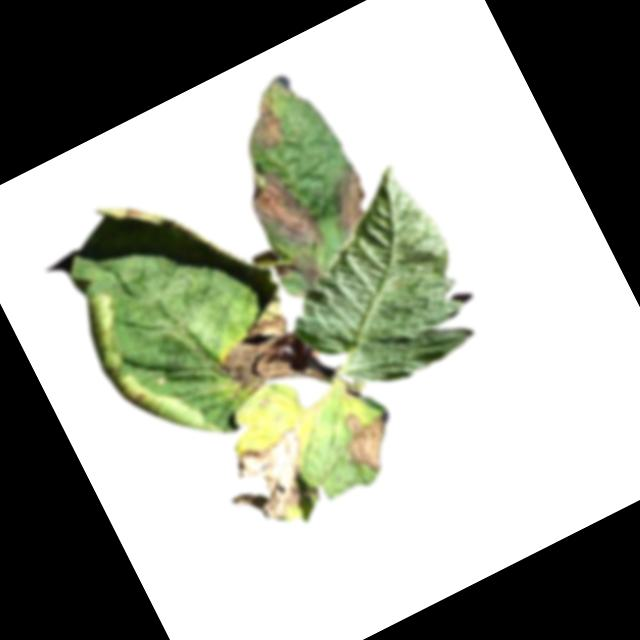Late_blight: (211, 419, 330, 532), (203, 299, 324, 409), (234, 154, 329, 267), (328, 396, 411, 481), (317, 162, 380, 237), (233, 89, 290, 155), (271, 247, 325, 298)
